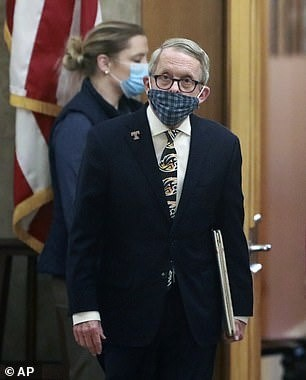face_with_mask: (71, 23, 148, 100), (144, 39, 210, 125)
